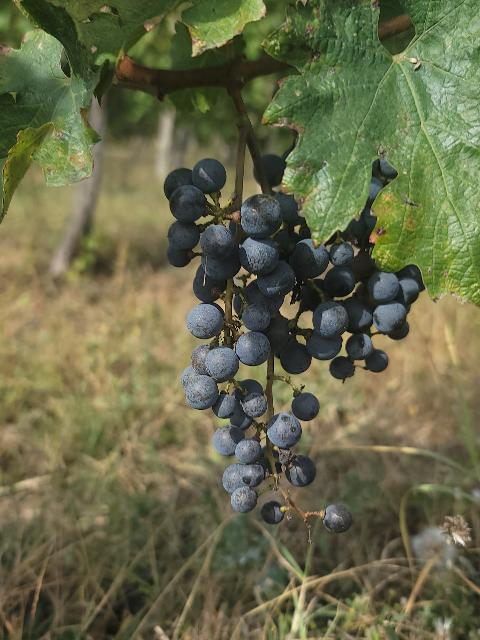grapes: (164, 159, 330, 512)
